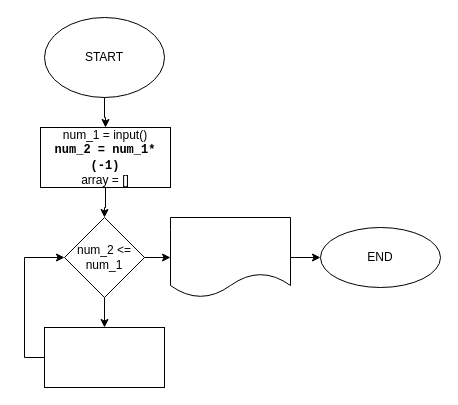
The diagram is 458 pixels wide and 405 high, and some of its shapes have lost their labels. The shapes that lost their labels are listed below. From the top down, each one's centre as x and y in pixels, then its label:
At point (230, 257): "print(array)".
At point (104, 357): "array.append(num_2) num_2 += 1".
